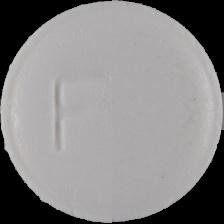68462-499: (0, 0, 224, 224)
